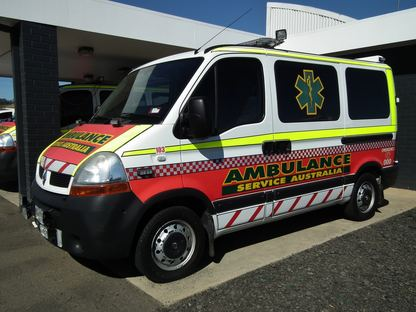ambulance: (22, 7, 401, 282), (0, 81, 173, 189)
